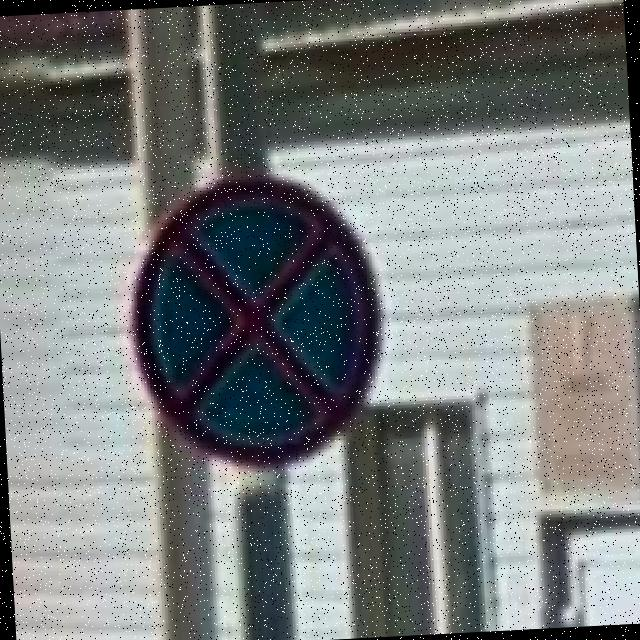Zakaz zatrzymywania sie: (125, 169, 388, 472)
